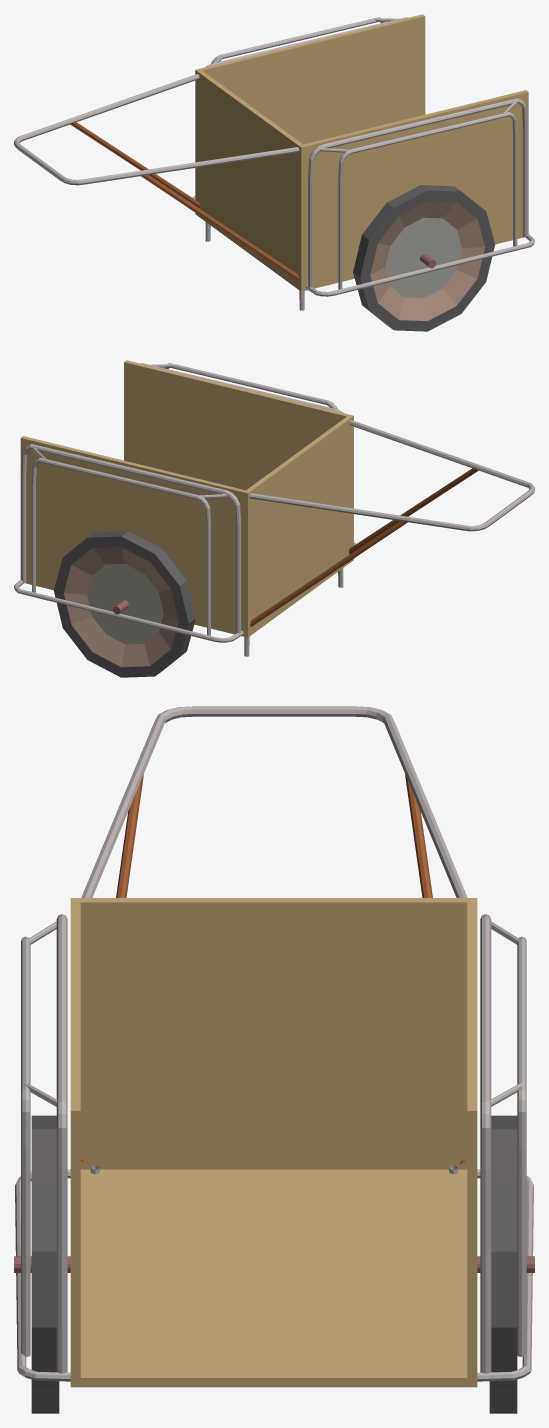
The model's file is HandCart.fbx.
3 renders of one model, top to bottom at view 1: azimuth 30°, elevation 25°; view 2: azimuth 150°, elevation 25°; view 3: azimuth 270°, elevation 25°, orthographic. The views are drawn at different scales.
Visible parts, largest first — view 1: handcart; view 2: handcart; view 3: handcart.
Part boxes in pixels (<box>): handcart: <box>14,14,534,331</box>; handcart: <box>14,360,534,677</box>; handcart: <box>14,706,534,1413</box>.
Bounding box in the file's own units: 121 × 65.05 × 54.17.
